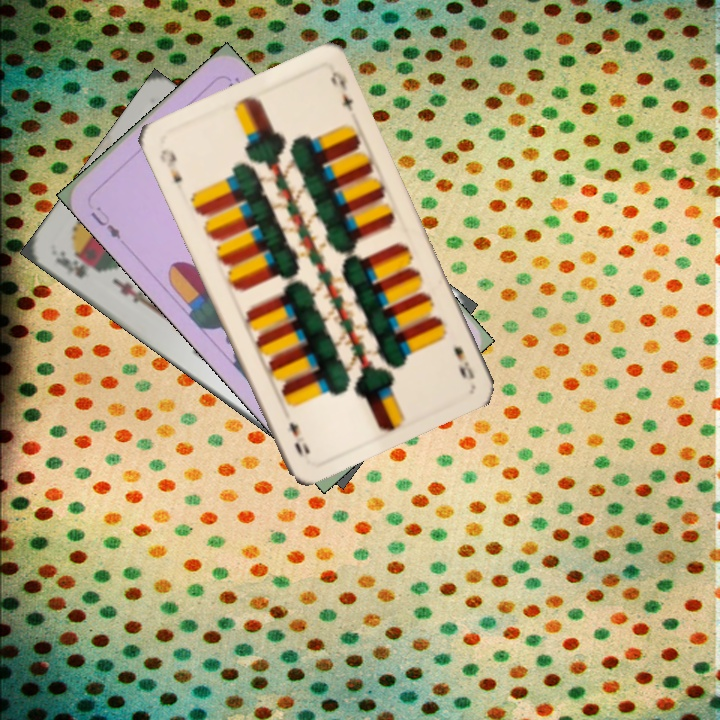E9: (155, 145, 185, 186), (449, 341, 477, 382)
EU: (86, 202, 124, 242)
SK: (51, 246, 103, 281)
